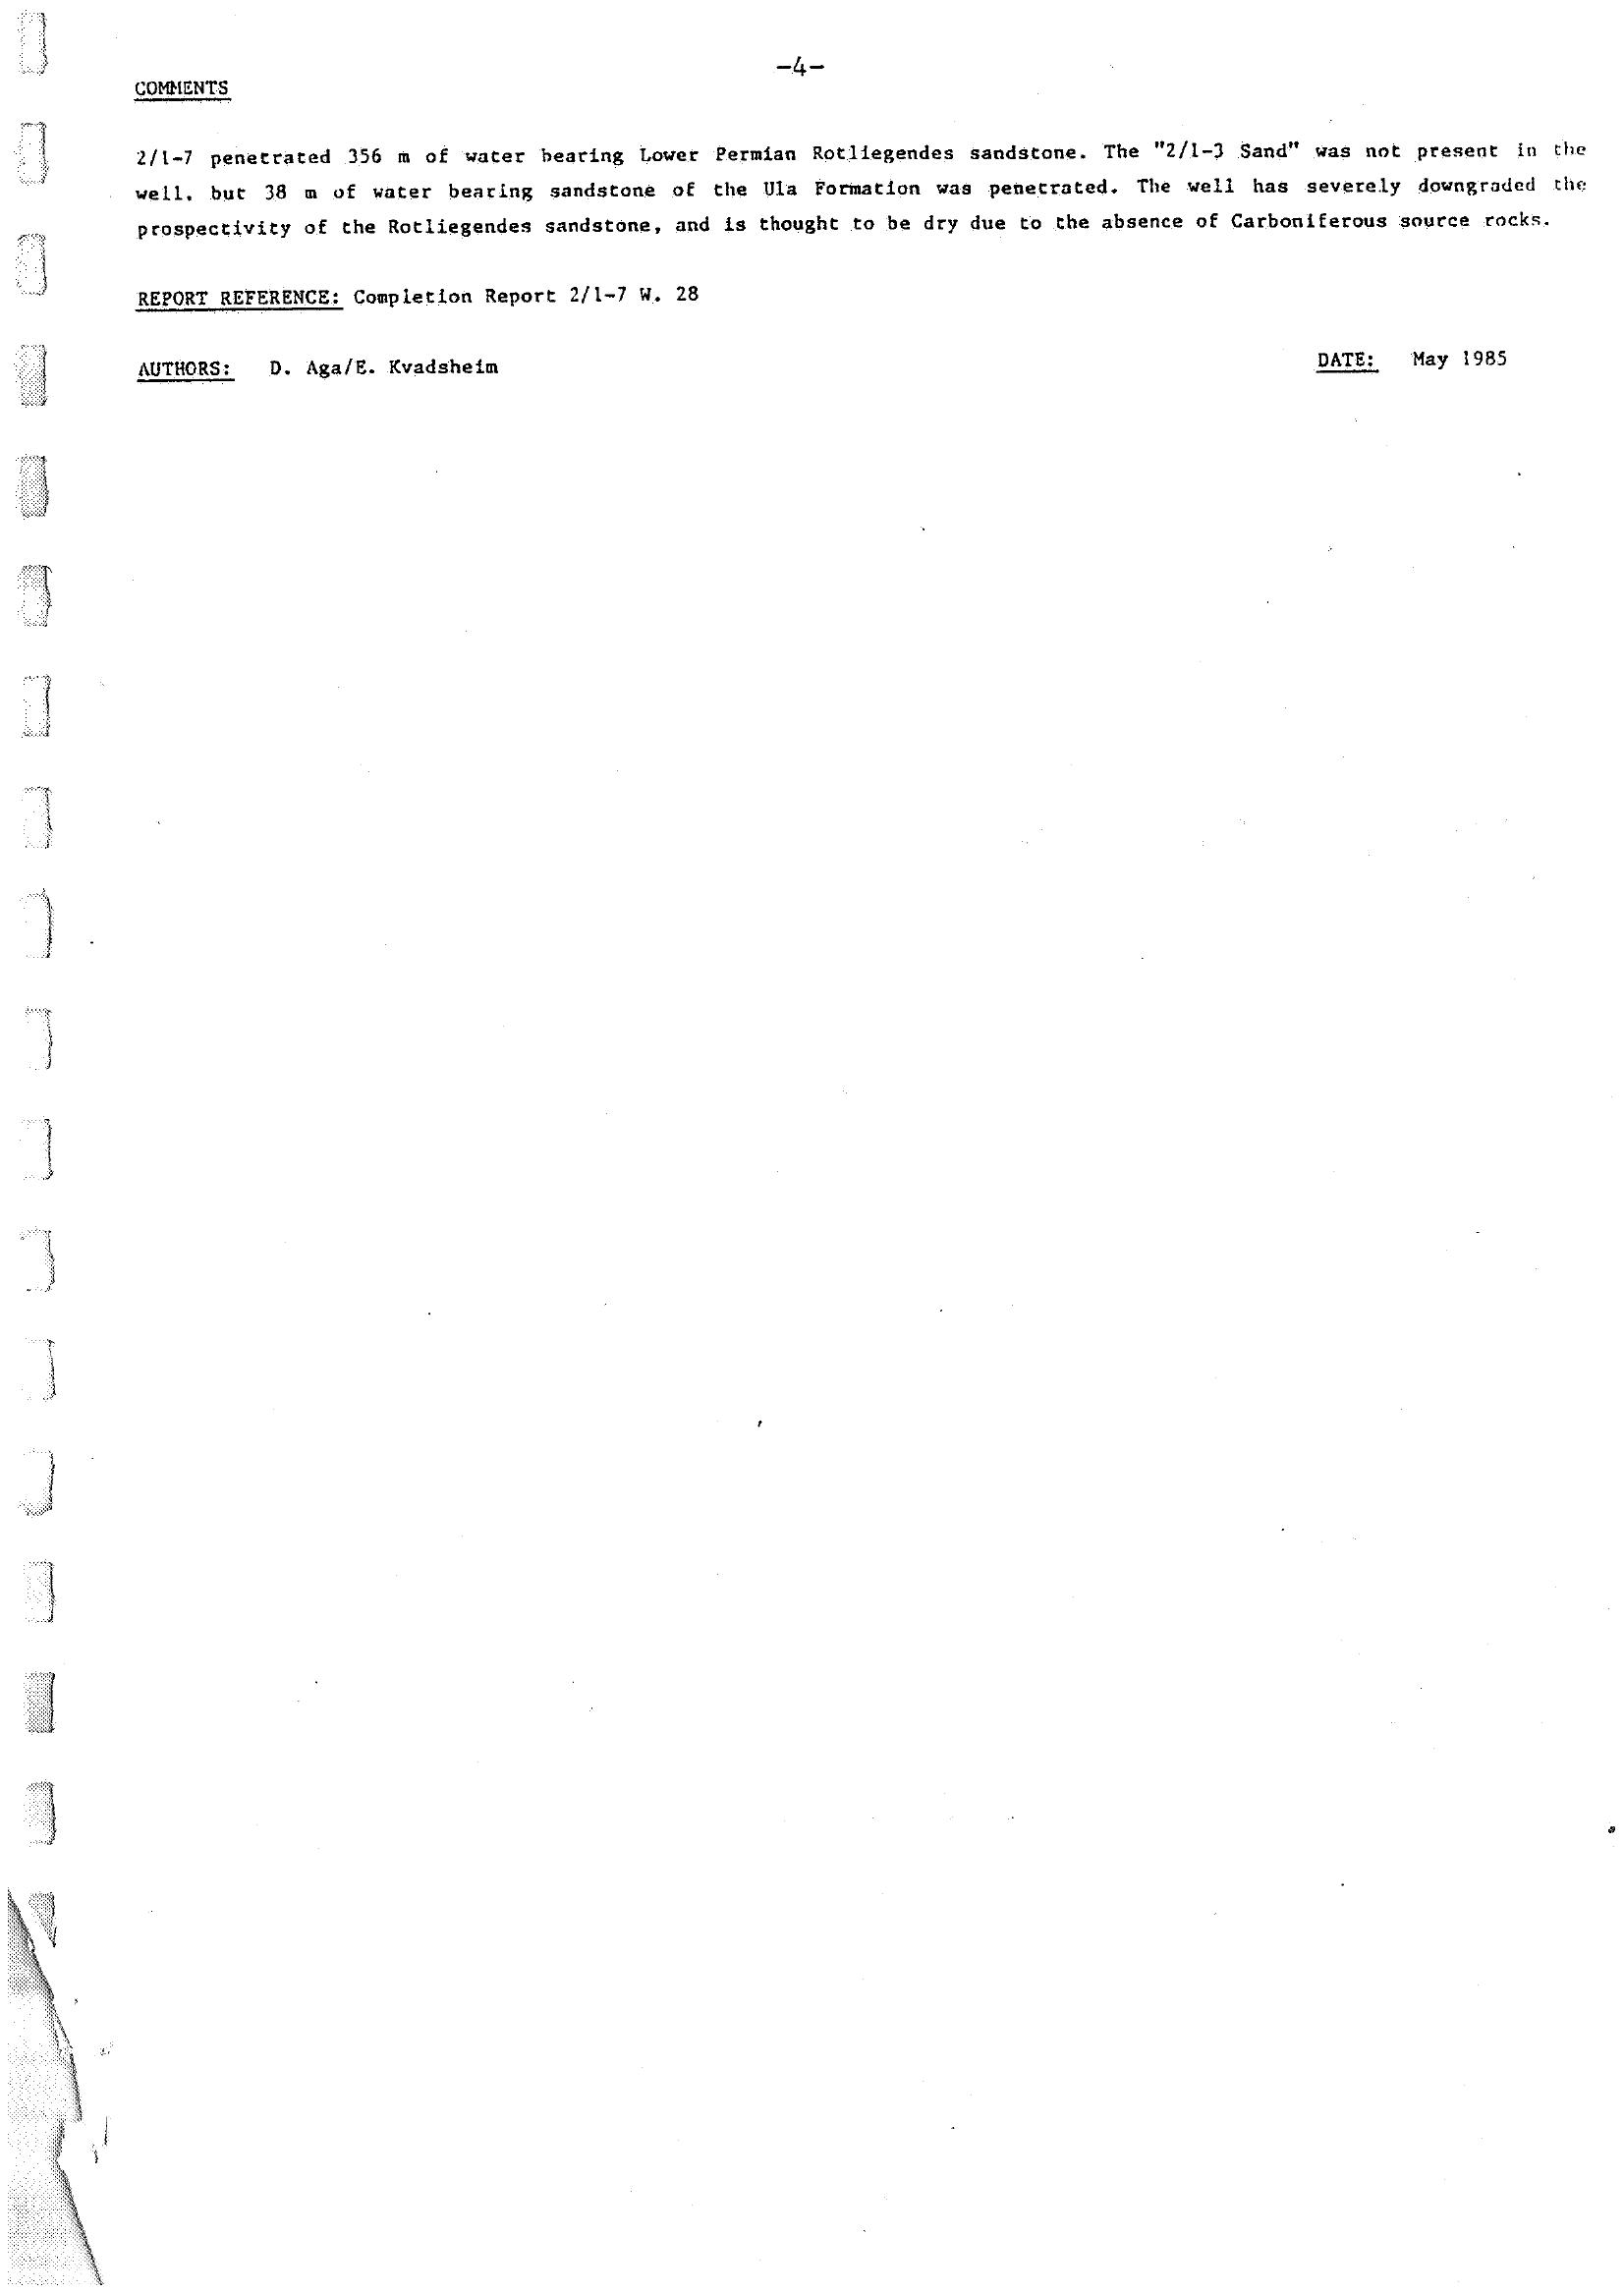text: (102, 61, 1592, 438)
